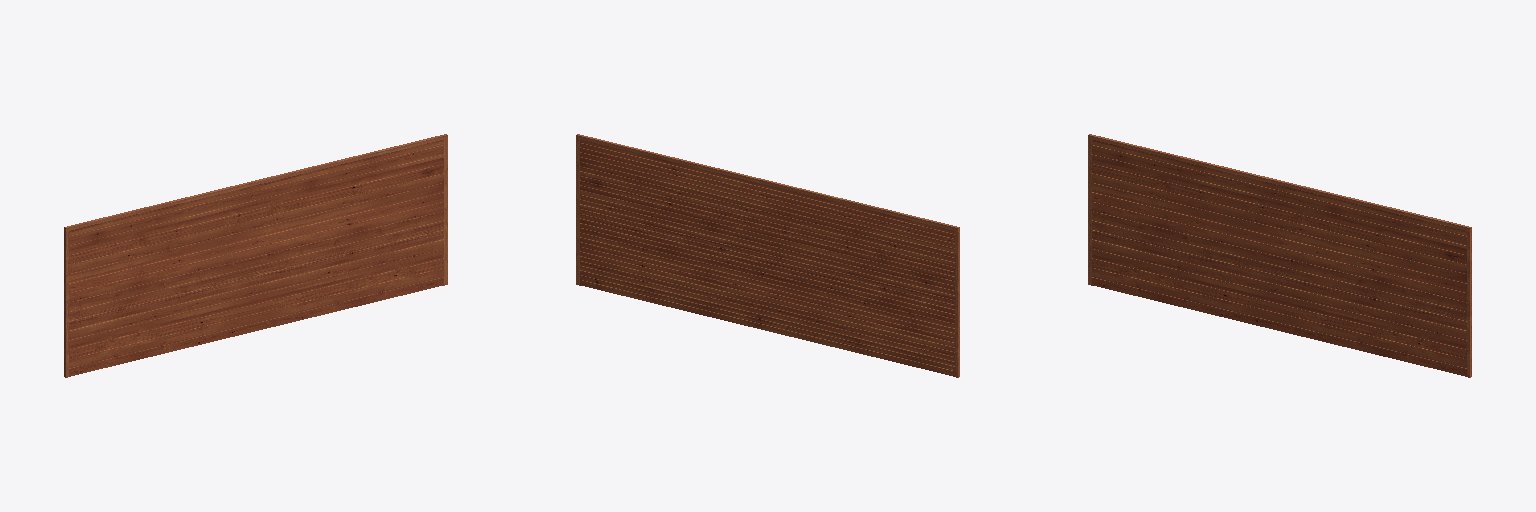
The picture shows the model from 3 angles: view 1: azimuth 30°, elevation 25°; view 2: azimuth 150°, elevation 25°; view 3: azimuth 330°, elevation 25°; orthographic projection.
Visible parts, largest first — view 1: wall_planks, trim_top, trim_left, trim_right; view 2: wall_planks, trim_top, trim_left, trim_right; view 3: wall_planks, trim_top, trim_right, trim_left.
Boxes of the visible parts, x1,y1,x2,y2 form: wall_planks: [69, 140, 443, 376]; trim_top: [64, 134, 447, 231]; trim_left: [64, 231, 68, 377]; trim_right: [444, 139, 447, 285]; wall_planks: [580, 140, 954, 376]; trim_top: [576, 134, 959, 231]; trim_left: [955, 231, 959, 377]; trim_right: [576, 139, 579, 285]; wall_planks: [1092, 140, 1466, 376]; trim_top: [1088, 134, 1471, 231]; trim_right: [1467, 231, 1471, 377]; trim_left: [1088, 139, 1091, 285].
Size of the model in its own units: 252 by 94.5 by 1.82.
Materials: 2 (2 with a texture image).